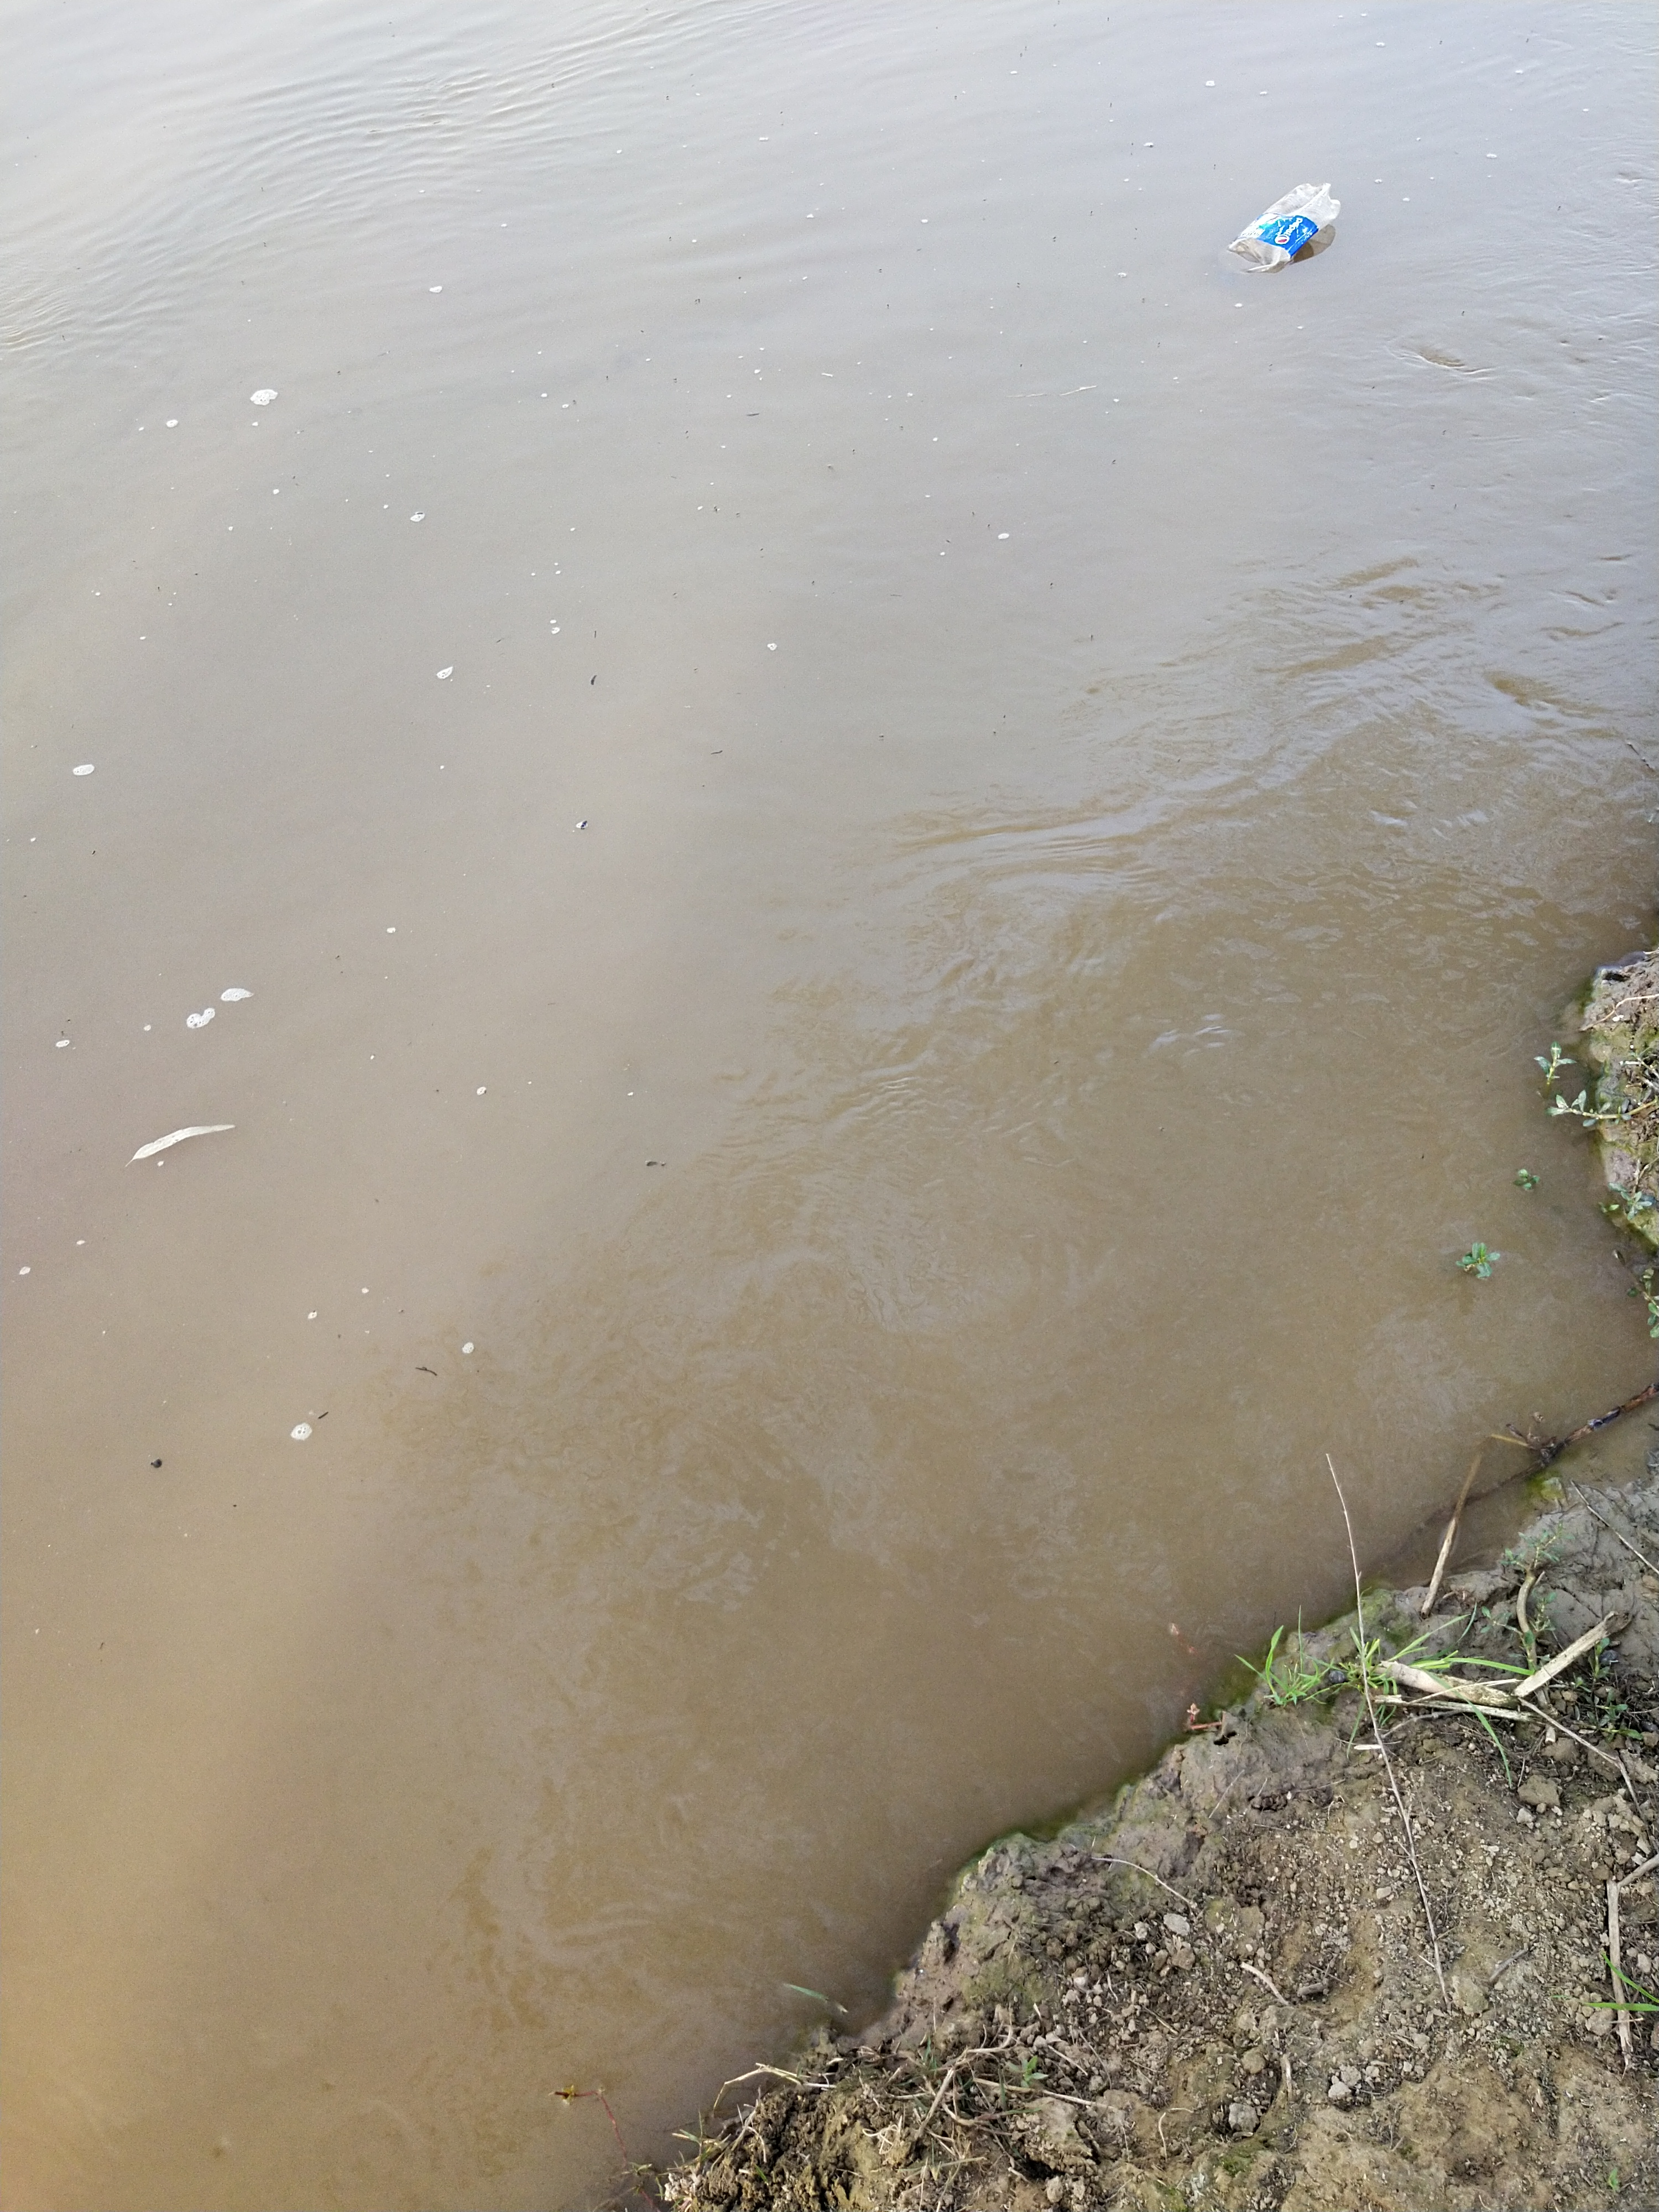Plastic Bottle: (1227, 181, 1340, 273)
